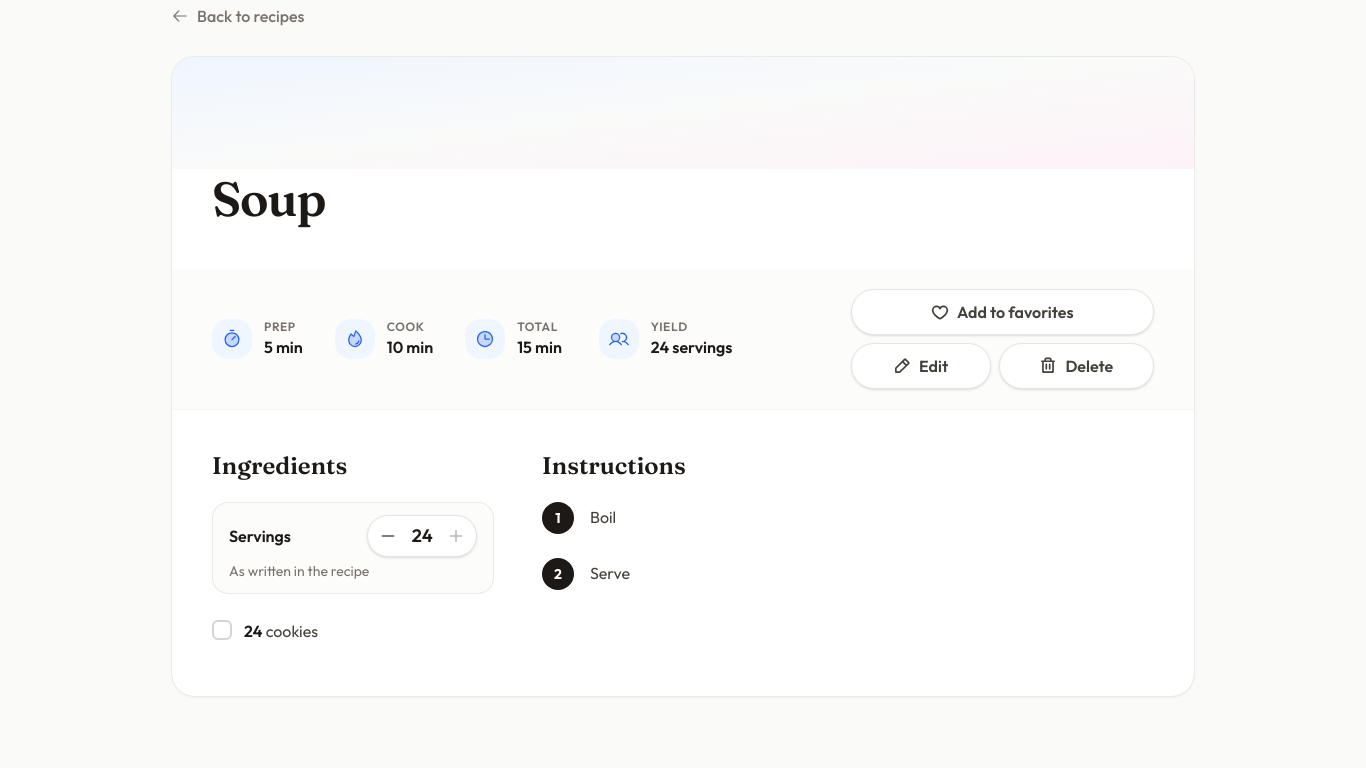
Scenario: serving size › a recipe for more than 12 can step down to 12 and back to its own yield
Expected: the heading "Soup" is shown, [212,169,325,228]
Click the button named "Fewer servings" at (388, 536), box [372,520,404,552]
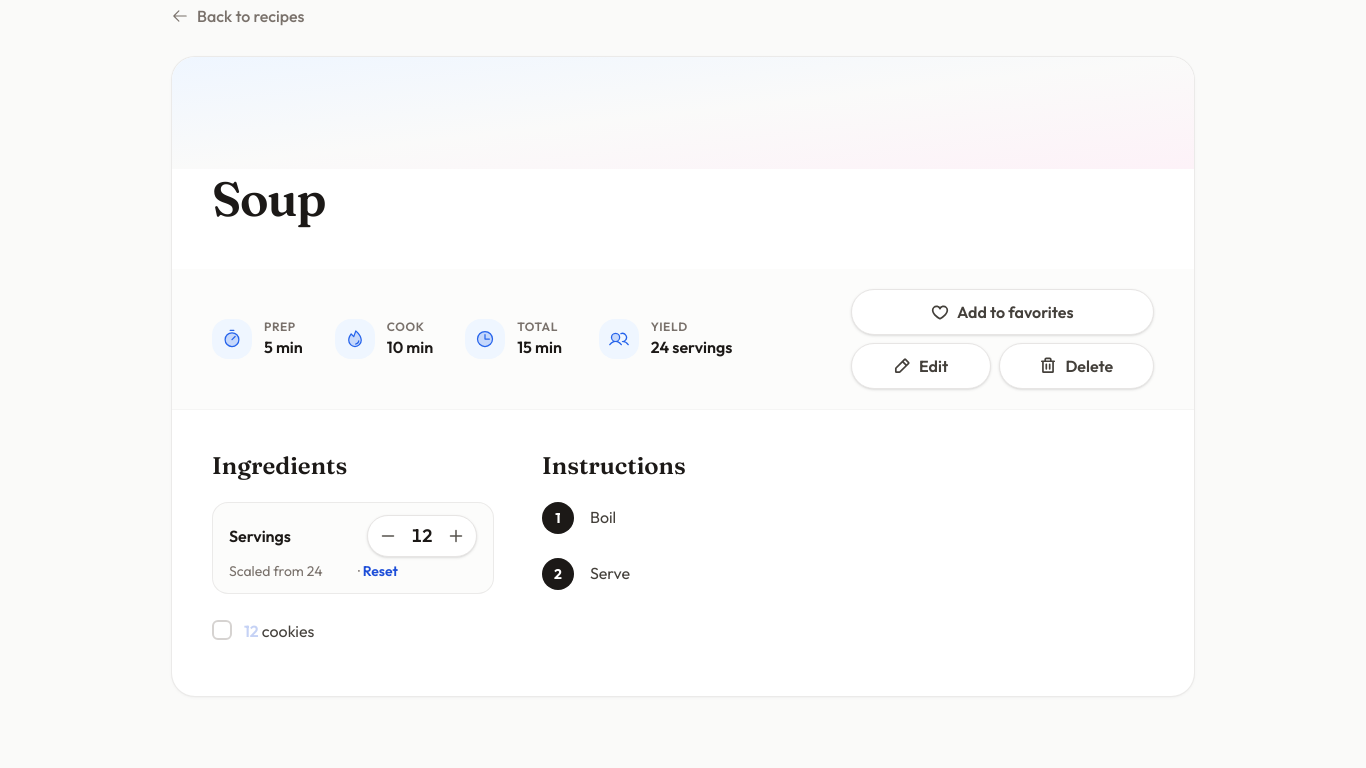
Expected: the checkbox reads "12 cookies", [212,620,314,641]
Click the button named "More servings" at (456, 536), box [440,520,472,552]
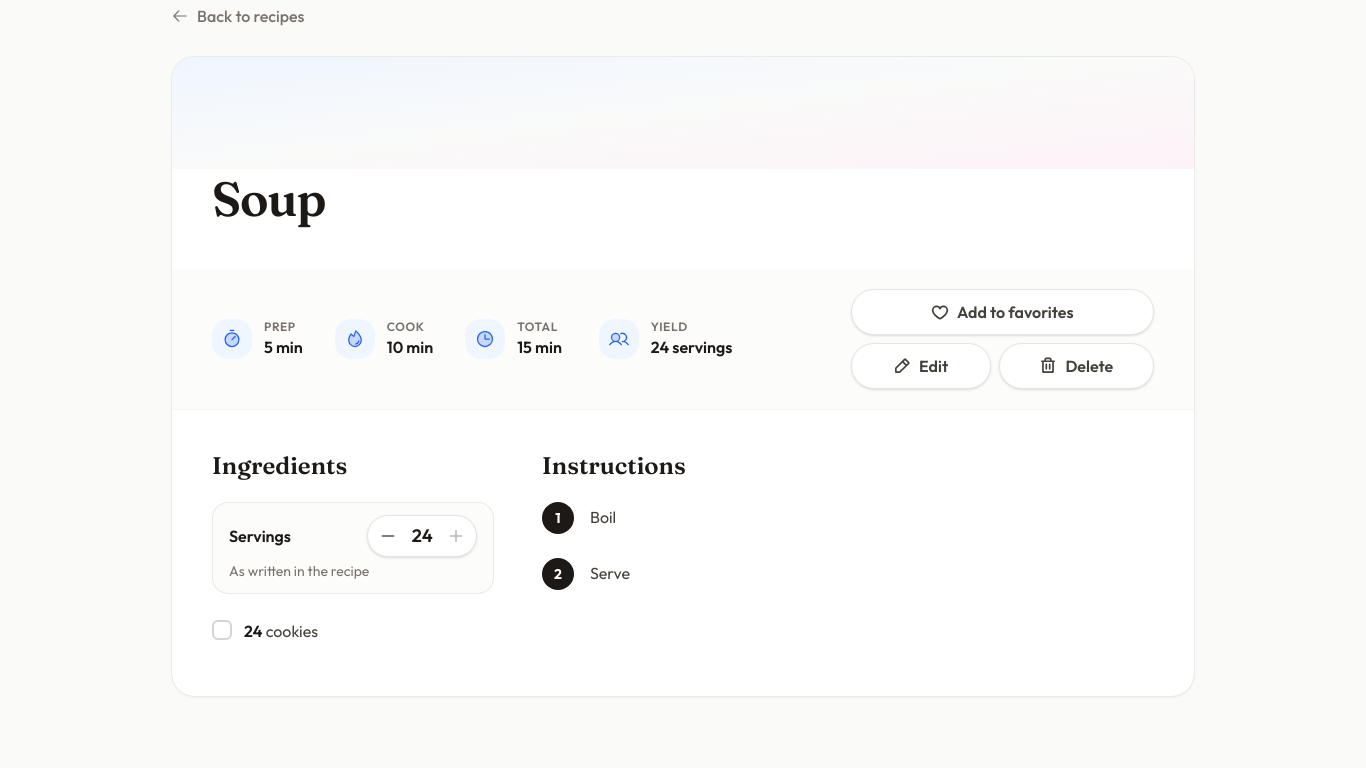
Expected: the checkbox reads "24 cookies", [212,620,318,641]
